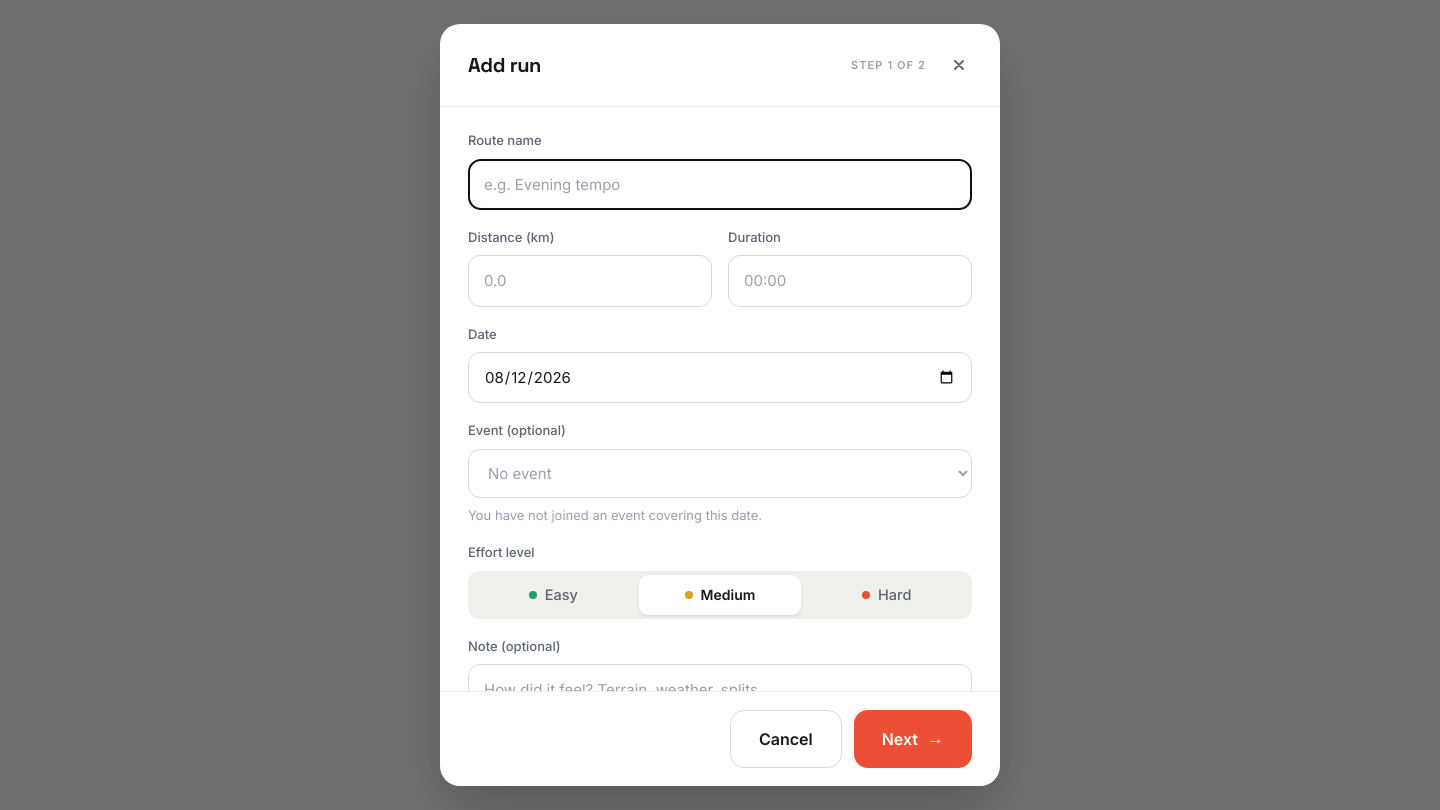
Route step (RUN-54) › opens only on a valid form, and plans the route from the placed points (AC1)
AC1 is conditional on a valid form: an empty one stays on step 1.
Click the button "Next →" at (913, 739), box [854, 710, 972, 768]
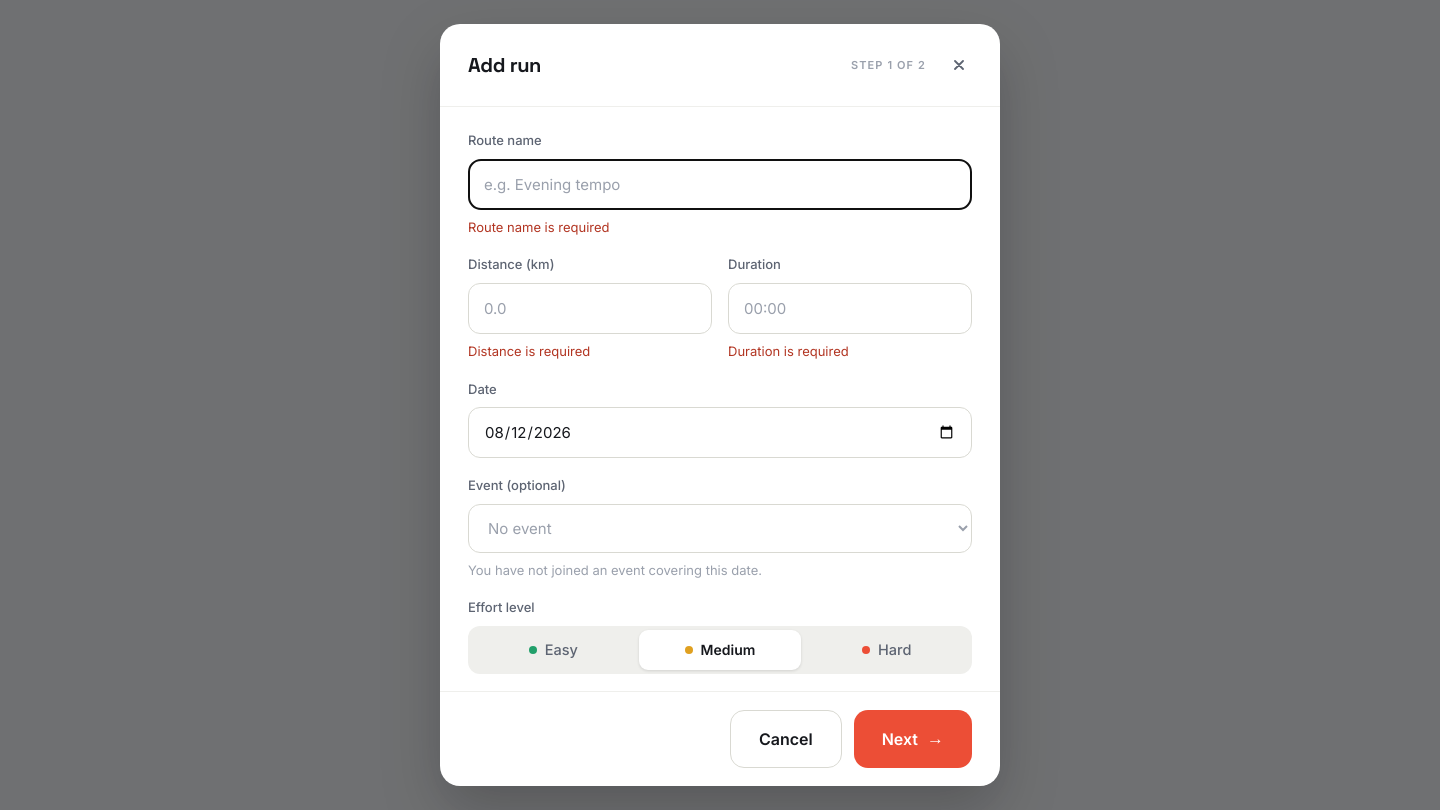
Expected: the text "Route name is required" is shown, [468, 219, 610, 235]
Type "Evening tempo" into the field labelled "Route name" at (720, 184), box [468, 158, 972, 210]
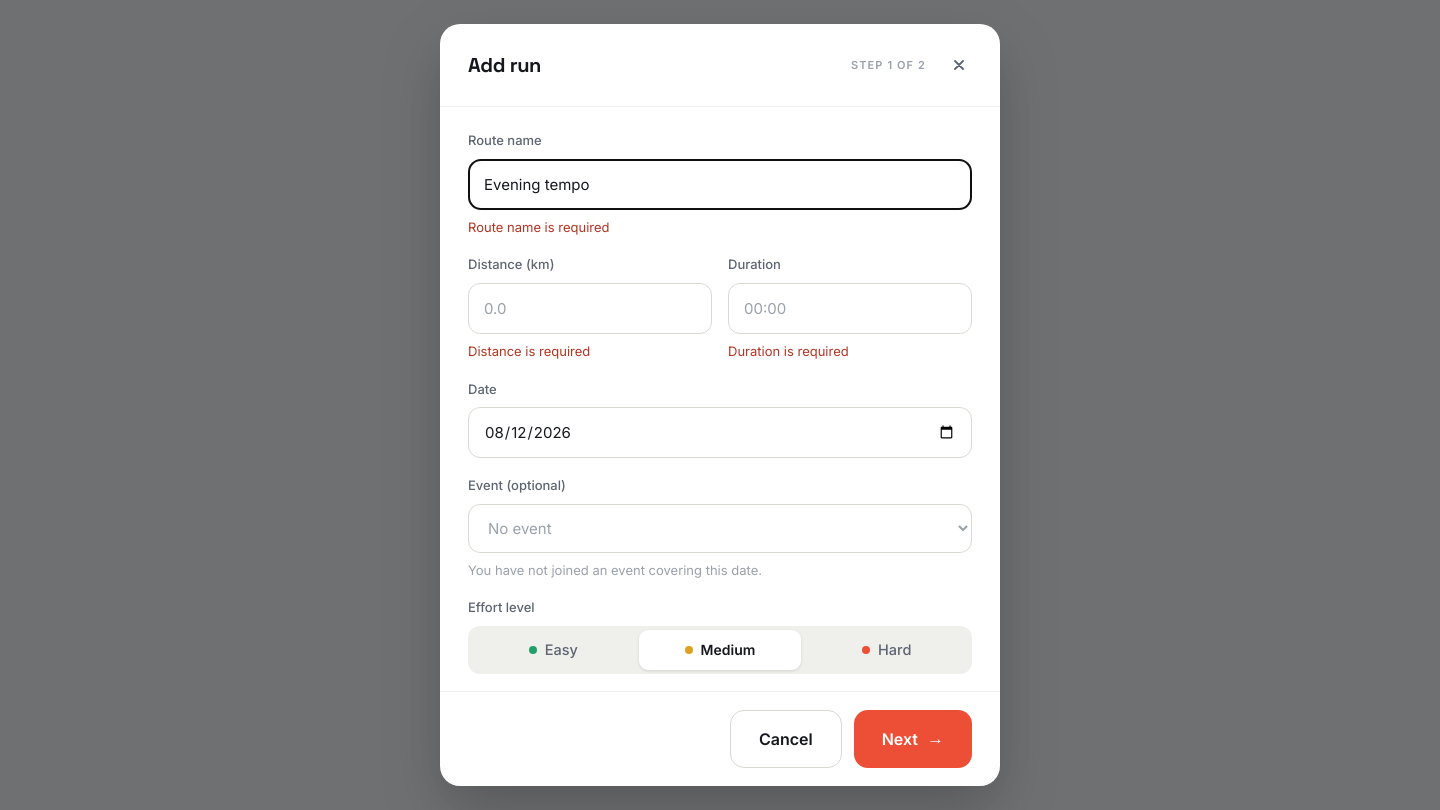
Type "8.2" into the field labelled "Distance (km)" at (590, 308), box [468, 283, 712, 334]
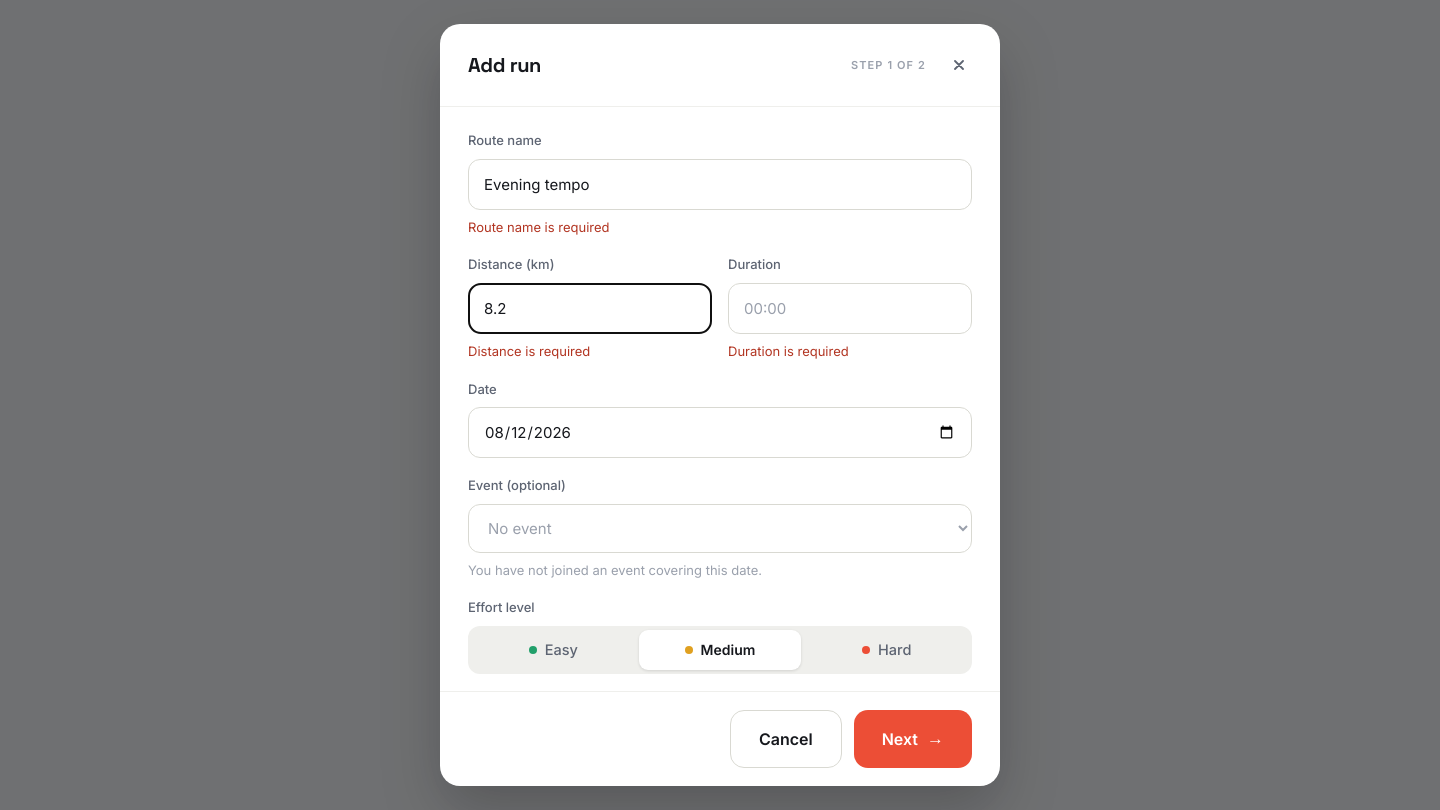
Type "42:15" into the field labelled "Duration" at (850, 308), box [728, 283, 972, 334]
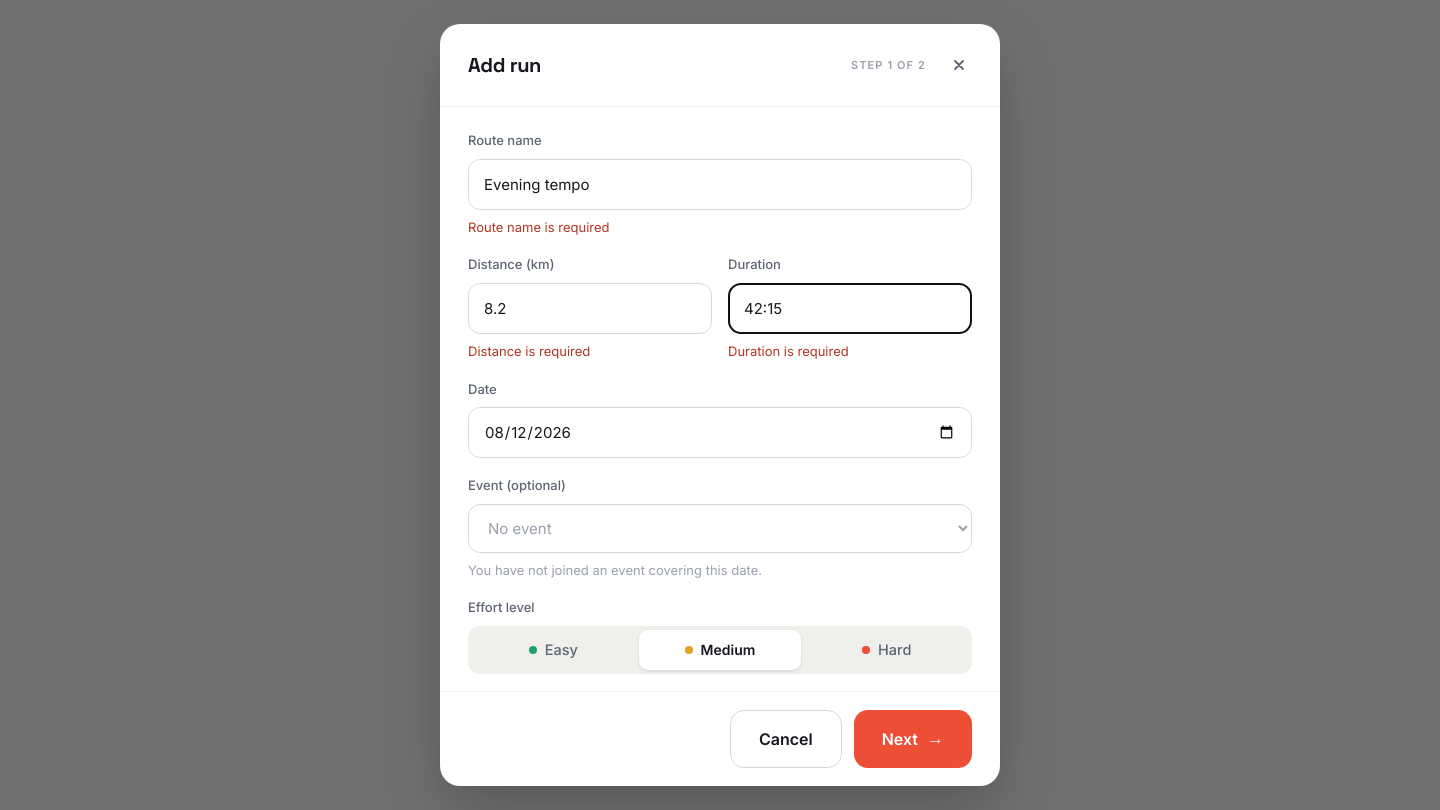
Click the button "Next →" at (913, 739), box [854, 710, 972, 768]
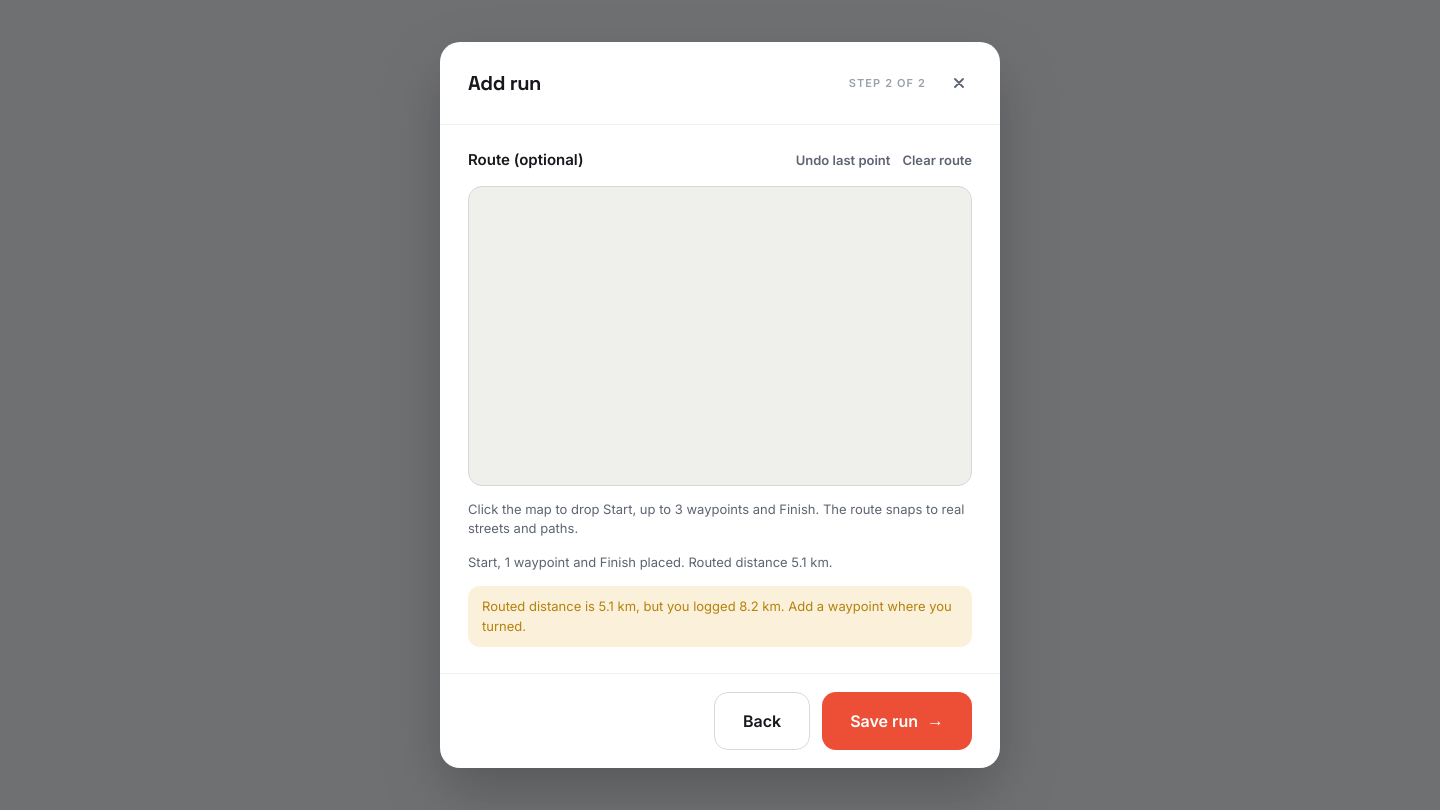
Expected: the element with test id "route-map" is shown, [468, 186, 972, 486]
Expected: the text "Step 2 of 2" is shown, [849, 75, 926, 91]
